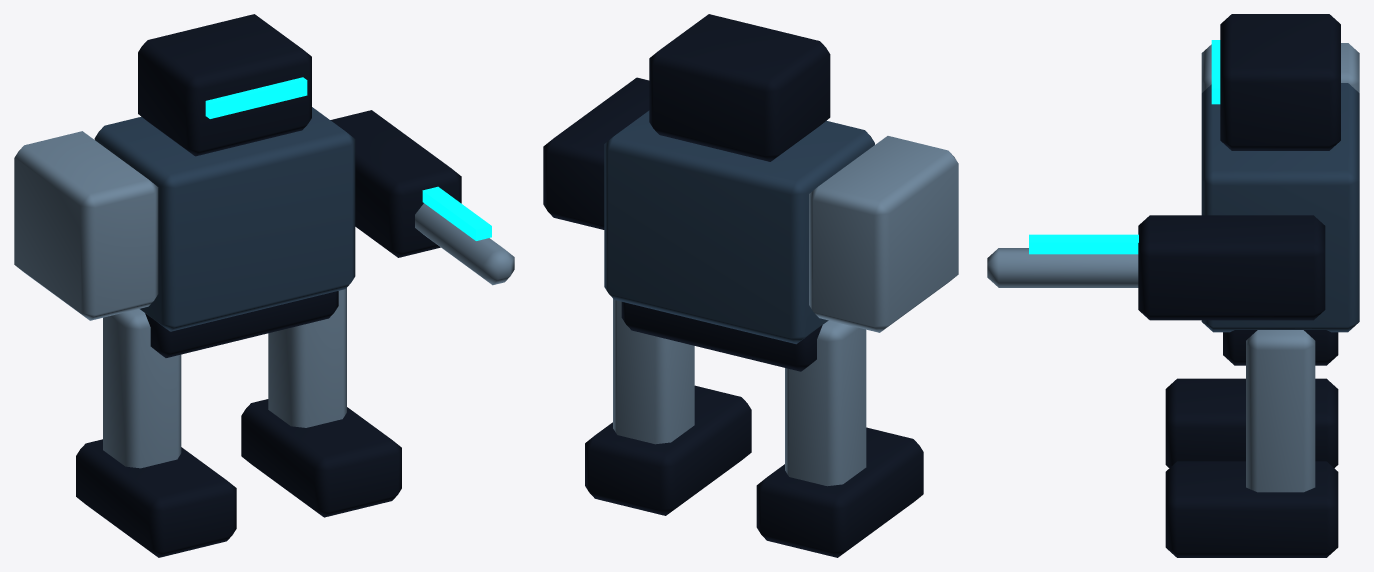
Rendered from sentinel.glb.
The picture shows the model from 3 angles, left to right: view 1: azimuth 30°, elevation 25°; view 2: azimuth 150°, elevation 25°; view 3: azimuth 270°, elevation 25°; orthographic projection. The views are drawn at different scales.
Parts seen in each view (by area): view 1: Torso, Shoulder shield, Helmet, Foot.001, Foot, Leg actuator, Weapon cradle, Leg actuator.001, Pelvis, Accelerator barrel, Visor, Weapon tracer; view 2: Torso, Shoulder shield, Helmet, Foot, Foot.001, Leg actuator, Leg actuator.001, Weapon cradle, Pelvis; view 3: Weapon cradle, Torso, Helmet, Foot.001, Leg actuator.001, Foot, Accelerator barrel, Weapon tracer, Pelvis, Shoulder shield, Visor.
Part boxes in pixels (left/top/right/bottom): Torso: left=94, top=107, right=355, bottom=331; Shoulder shield: left=14, top=131, right=158, bottom=320; Helmet: left=138, top=14, right=311, bottom=156; Foot.001: left=241, top=399, right=401, bottom=517; Foot: left=76, top=439, right=236, bottom=557; Leg actuator: left=103, top=309, right=181, bottom=468; Weapon cradle: left=330, top=110, right=461, bottom=257; Leg actuator.001: left=268, top=288, right=346, bottom=427; Pelvis: left=145, top=291, right=338, bottom=357; Accelerator barrel: left=415, top=203, right=514, bottom=285; Visor: left=205, top=77, right=307, bottom=118; Weapon tracer: left=422, top=186, right=491, bottom=240; Torso: left=604, top=110, right=874, bottom=344; Shoulder shield: left=809, top=136, right=958, bottom=332; Helmet: left=649, top=14, right=830, bottom=161; Foot: left=756, top=427, right=923, bottom=557; Foot.001: left=585, top=385, right=751, bottom=515; Leg actuator: left=785, top=320, right=866, bottom=486; Leg actuator.001: left=613, top=299, right=694, bottom=444; Weapon cradle: left=543, top=77, right=649, bottom=229; Pelvis: left=621, top=302, right=822, bottom=371; Weapon cradle: left=1138, top=215, right=1325, bottom=320; Torso: left=1201, top=83, right=1359, bottom=332; Helmet: left=1220, top=14, right=1340, bottom=150; Foot.001: left=1165, top=461, right=1338, bottom=557; Leg actuator.001: left=1246, top=330, right=1315, bottom=492; Foot: left=1165, top=378, right=1338, bottom=467; Accelerator barrel: left=987, top=248, right=1138, bottom=287; Weapon tracer: left=1029, top=234, right=1138, bottom=254; Pelvis: left=1223, top=330, right=1338, bottom=365; Shoulder shield: left=1201, top=43, right=1359, bottom=92; Visor: left=1211, top=40, right=1220, bottom=104.
Size of the model in its own units: 1.44 by 1.76 by 1.3.
